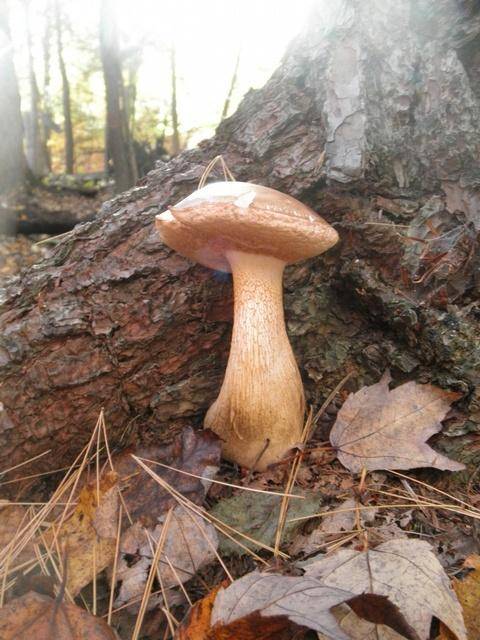poisonous_mushroom: (153, 178, 340, 473)
